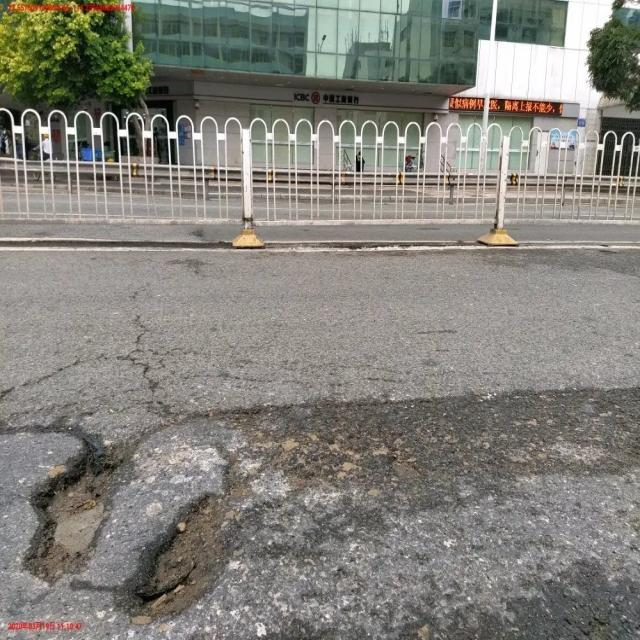Pothole: (123, 480, 242, 623), (27, 434, 120, 587)
